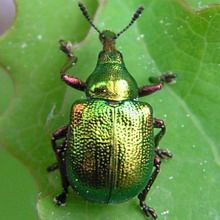dolgonosik: (57, 2, 173, 220)
